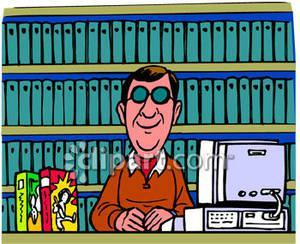person: (86, 64, 199, 233)
